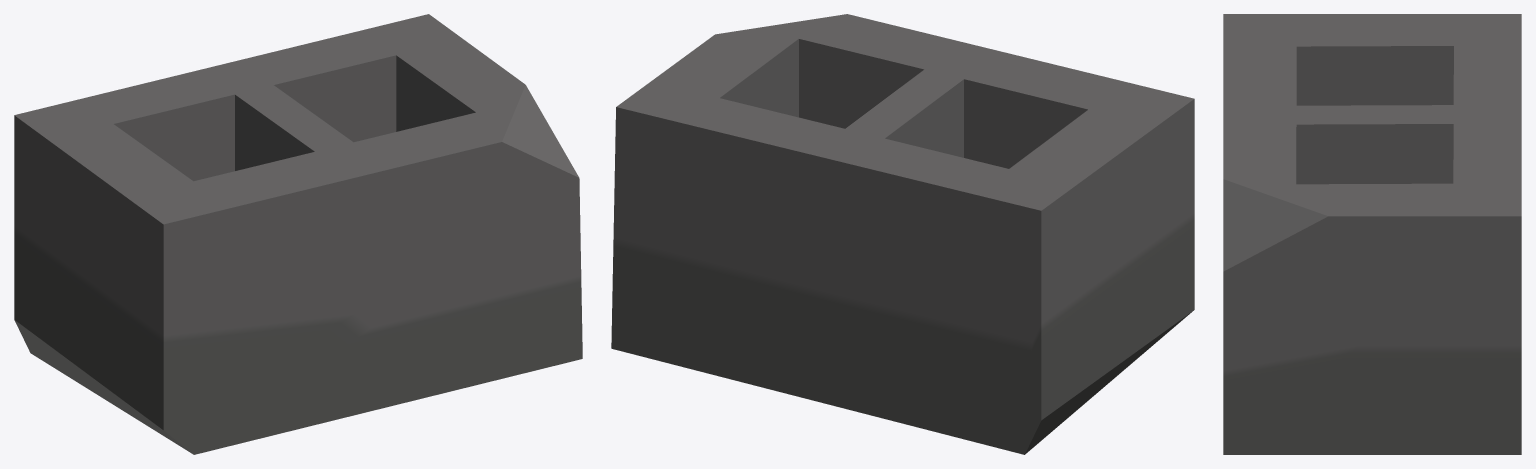
The model's file is SM_Prop_Cinderblock_01.obj.
3 renders of one model, left to right at view 1: azimuth 30°, elevation 25°; view 2: azimuth 150°, elevation 25°; view 3: azimuth 270°, elevation 25°, orthographic. The views are drawn at different scales.
Parts seen in each view (by area): view 1: SM_Prop_Cinderblock_01_0; view 2: SM_Prop_Cinderblock_01_0; view 3: SM_Prop_Cinderblock_01_0.
Boxes of the visible parts, x1=… form: SM_Prop_Cinderblock_01_0: x1=14, y1=14, x2=582, y2=454; SM_Prop_Cinderblock_01_0: x1=611, y1=14, x2=1194, y2=454; SM_Prop_Cinderblock_01_0: x1=1223, y1=14, x2=1521, y2=454.
Size of the model in its own units: 0.4395 by 0.2424 by 0.2711.
Materials: 1 (1 with a texture image).
